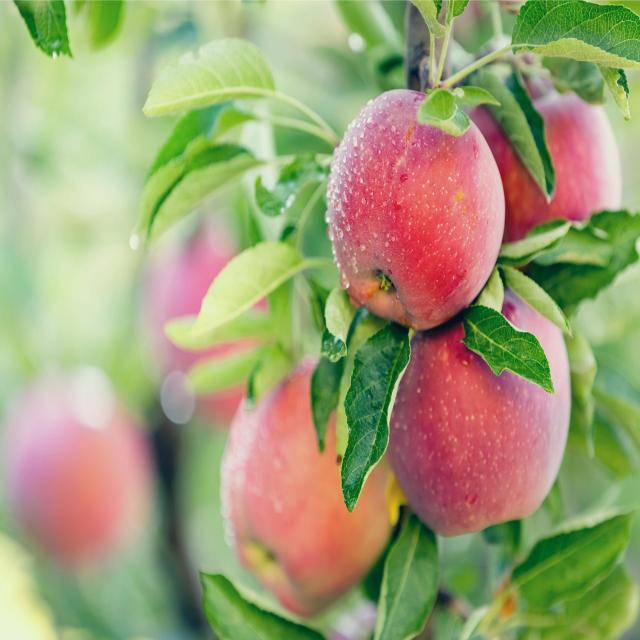manzana: (328, 84, 501, 342)
